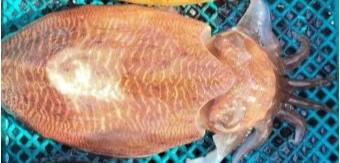Cephalopod: (1, 0, 335, 162)
